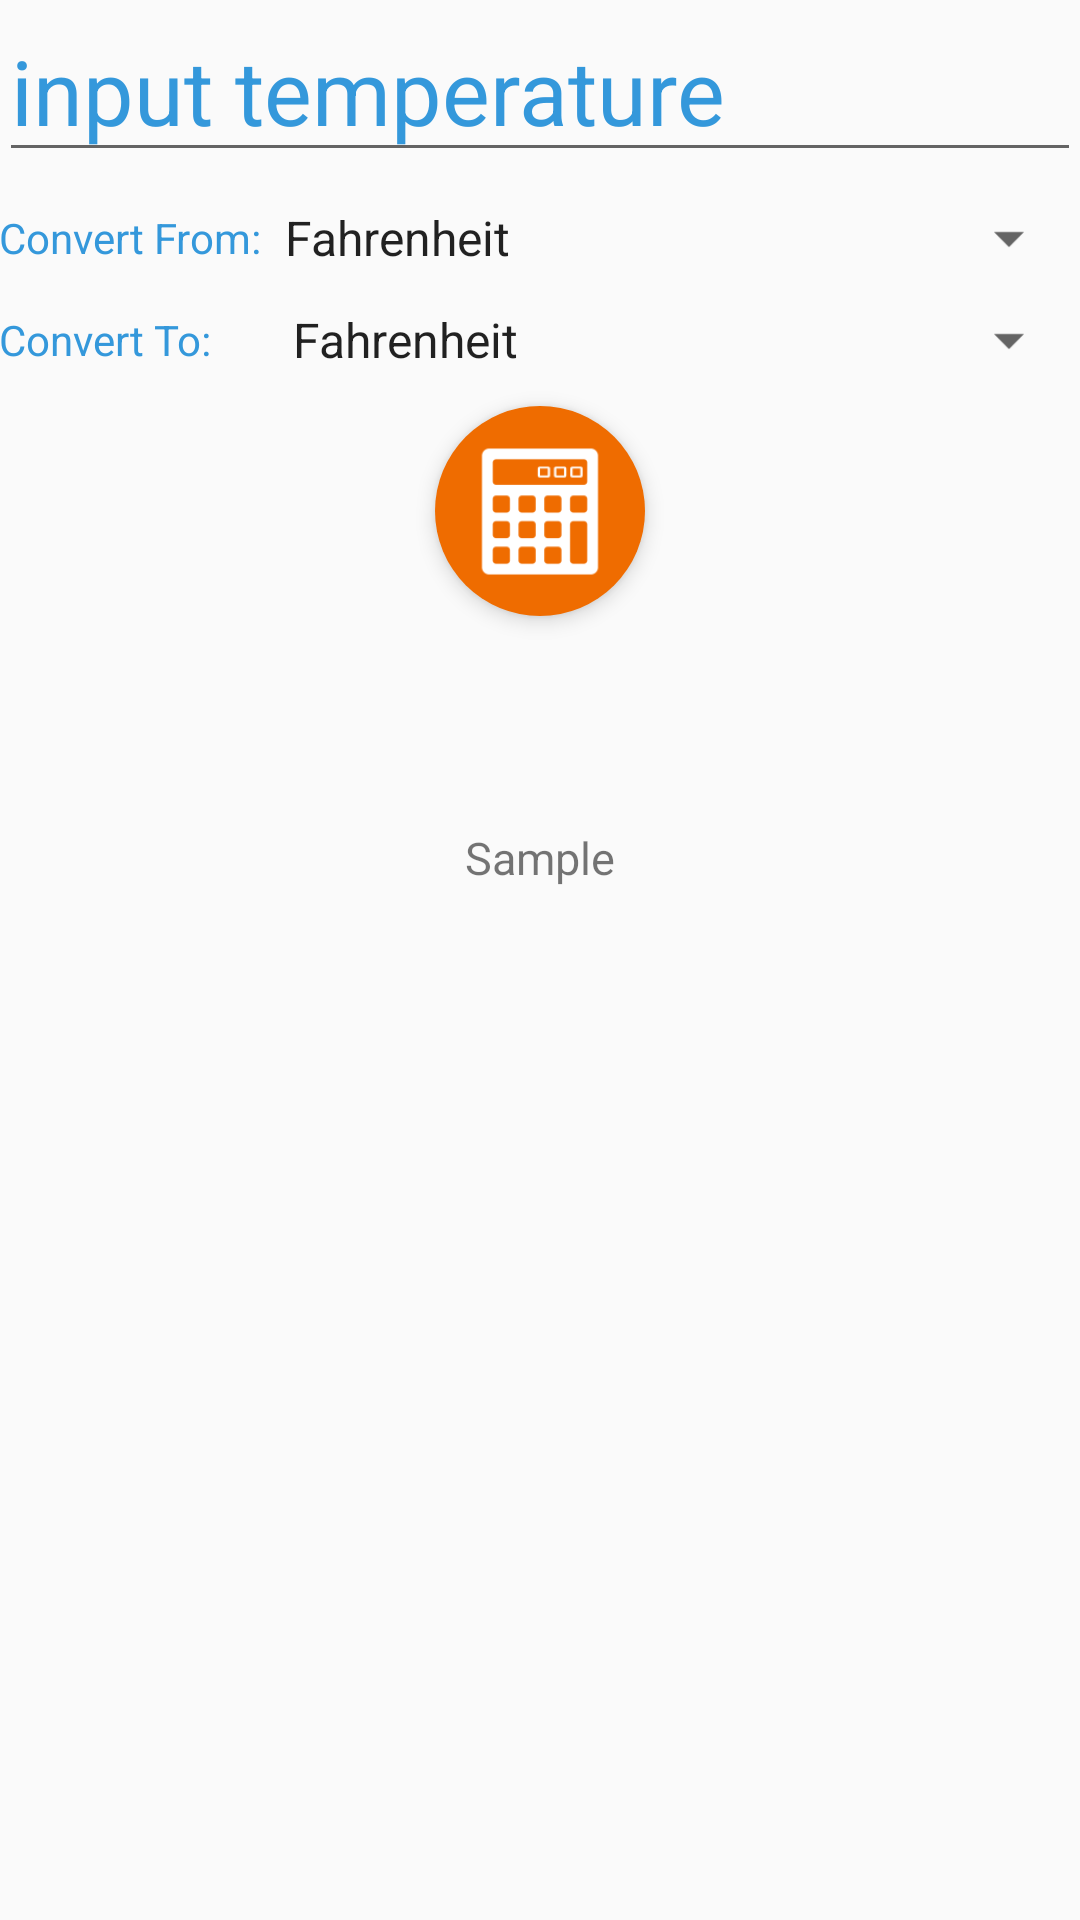

Where to tap for icons on this 1080w x 1920h app screen, as (x=x, y=y):
calculator: (x=540, y=511)
